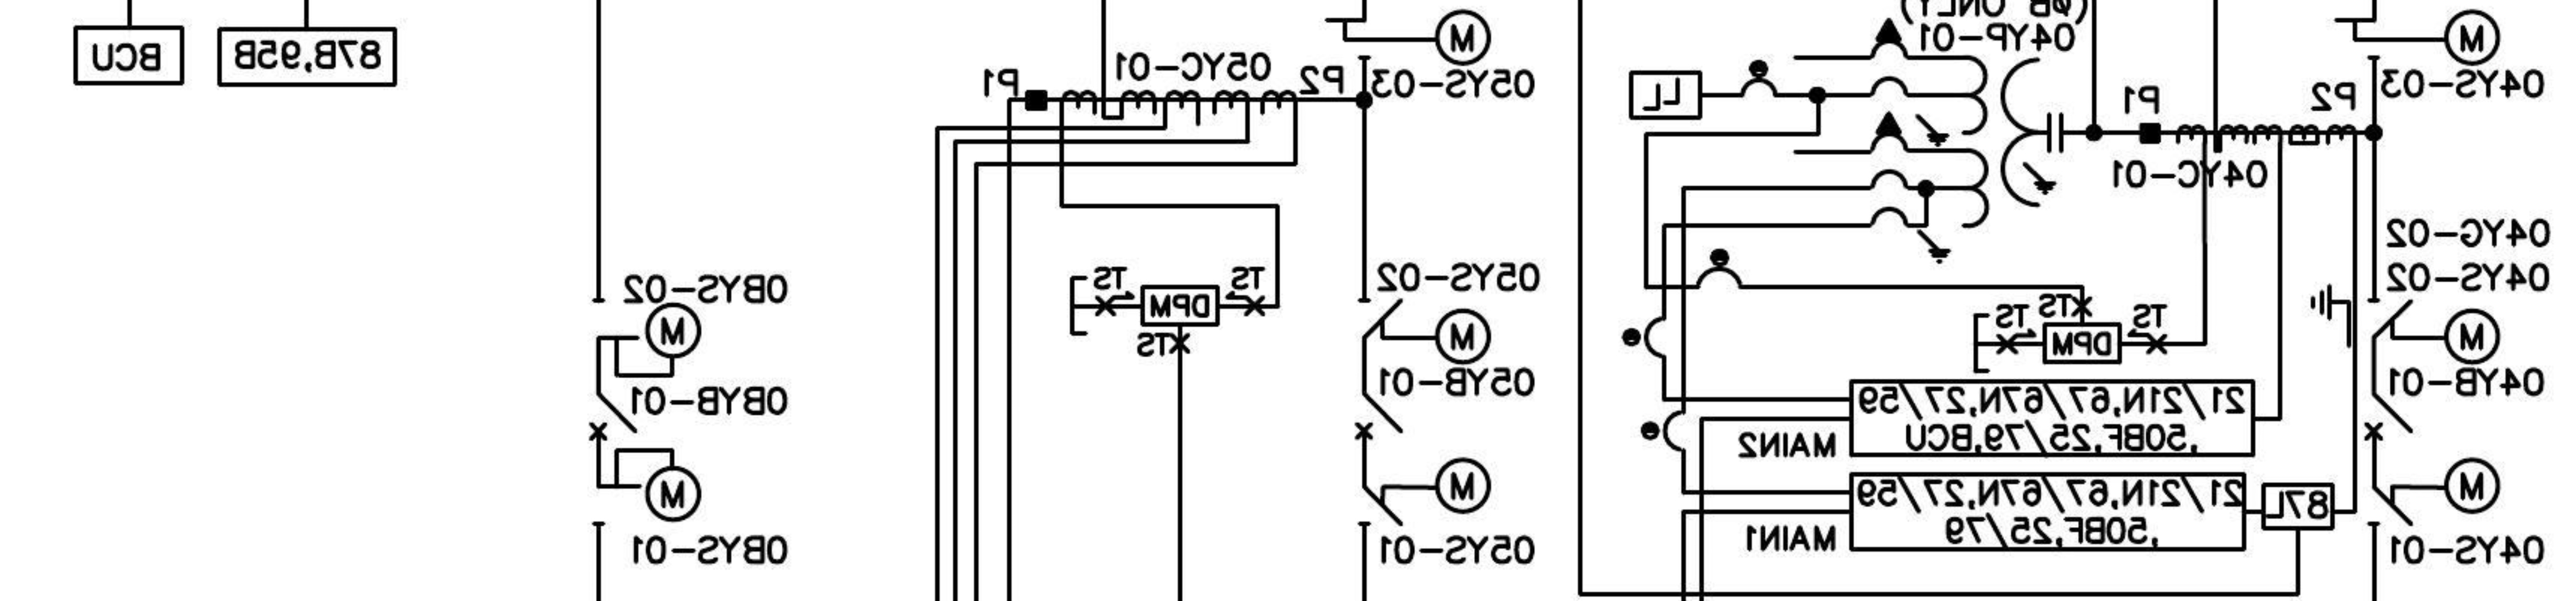115_1way_ds_w_motor: (1322, 7, 1493, 67), (2333, 8, 2502, 67), (2366, 456, 2502, 527), (1357, 456, 1492, 527), (1357, 297, 1492, 366), (591, 297, 703, 378), (591, 447, 703, 527)
115_3ways_ds_w_motor: (2310, 284, 2502, 366)
115_breaker: (588, 392, 637, 442), (2364, 392, 2413, 442), (1354, 392, 1405, 440)
115_cvt_1p: (1866, 16, 2065, 264)
BCU: (72, 25, 186, 87)
DPM: (2042, 322, 2123, 365), (1140, 284, 1221, 327)
LL: (1628, 69, 1704, 122)
